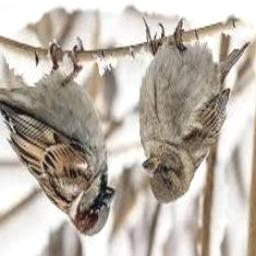Sparrow: (0, 37, 115, 237), (138, 16, 251, 205)
